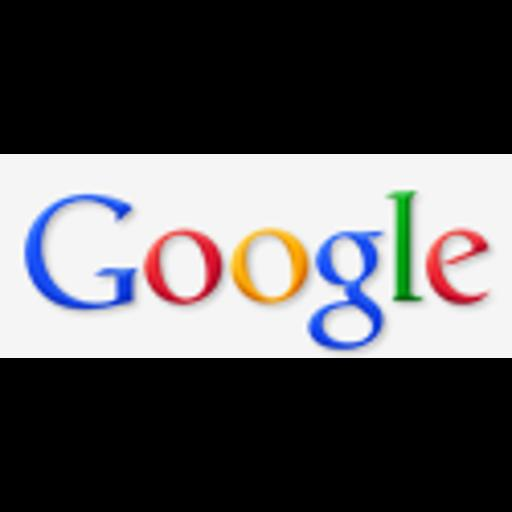Google: (0, 154, 512, 358)
